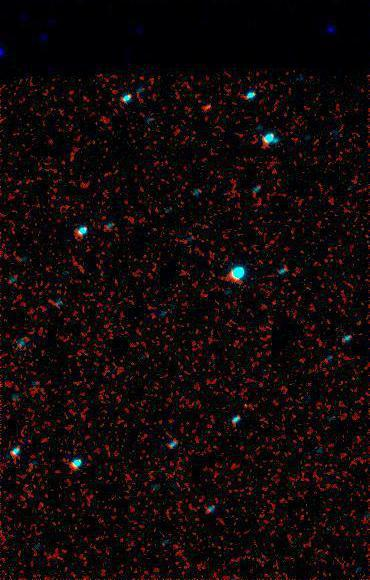star: (192, 93, 222, 123)
